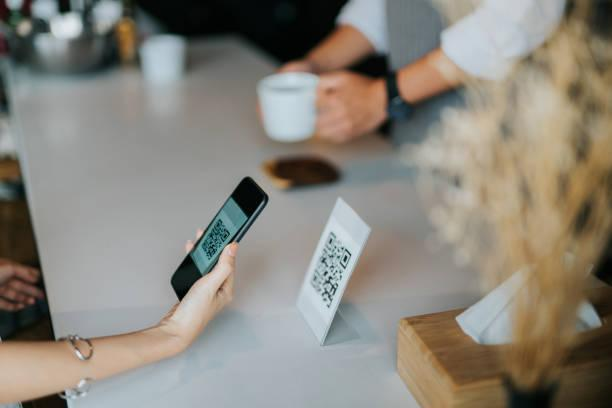Finder pattern: (338, 246, 352, 271), (309, 269, 322, 289), (325, 232, 338, 250), (212, 218, 225, 230), (220, 229, 231, 241)
